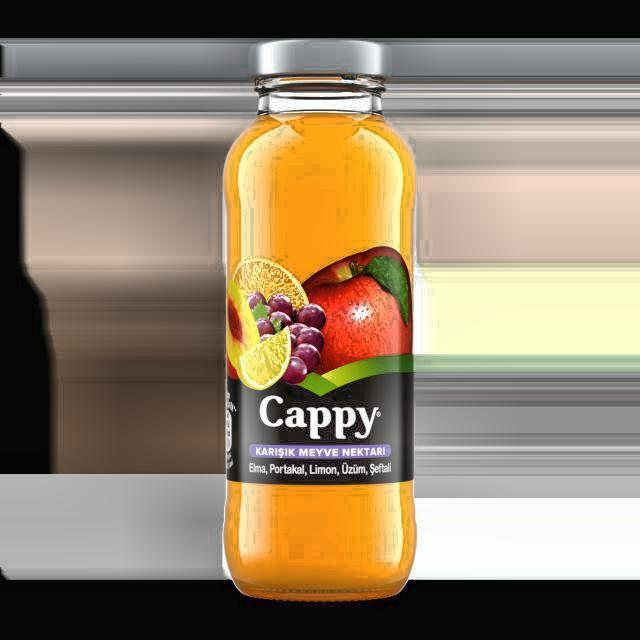glass: (222, 70, 419, 603)
